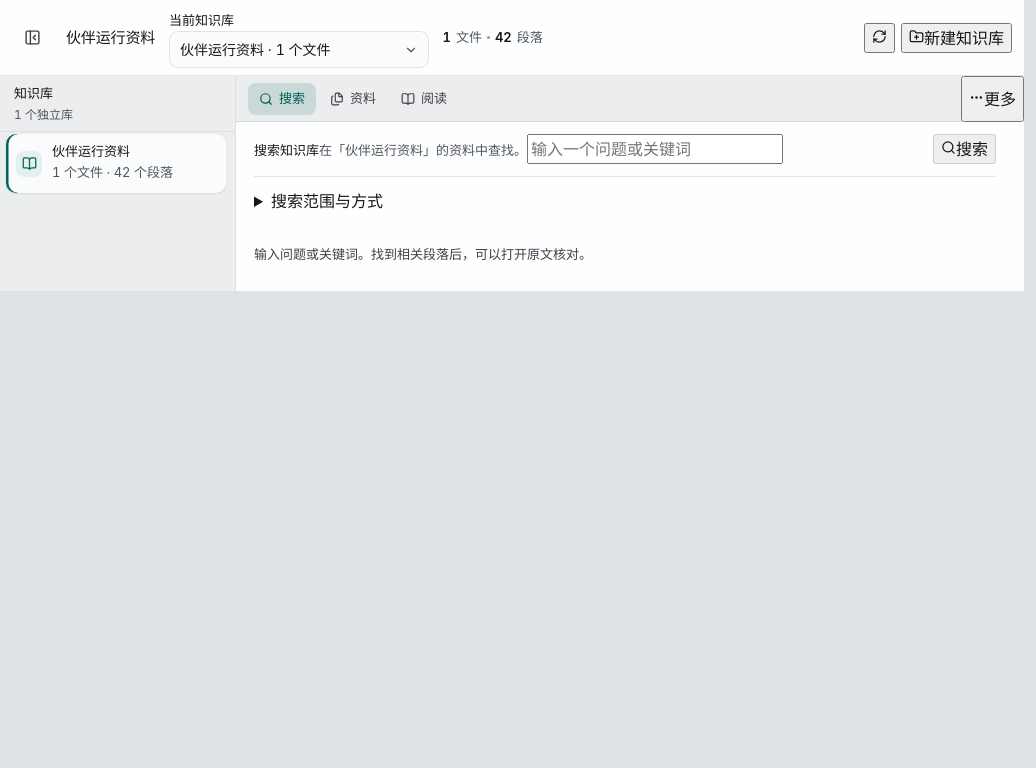
Test case: document knowledge library › opens the exact hit even when the current materials list does not contain its document
The width and height of the screenshot is (1036, 768).
Type "工具注册" into the field labelled "搜索知识库". click: (655, 149)
box: [527,134,783,164]
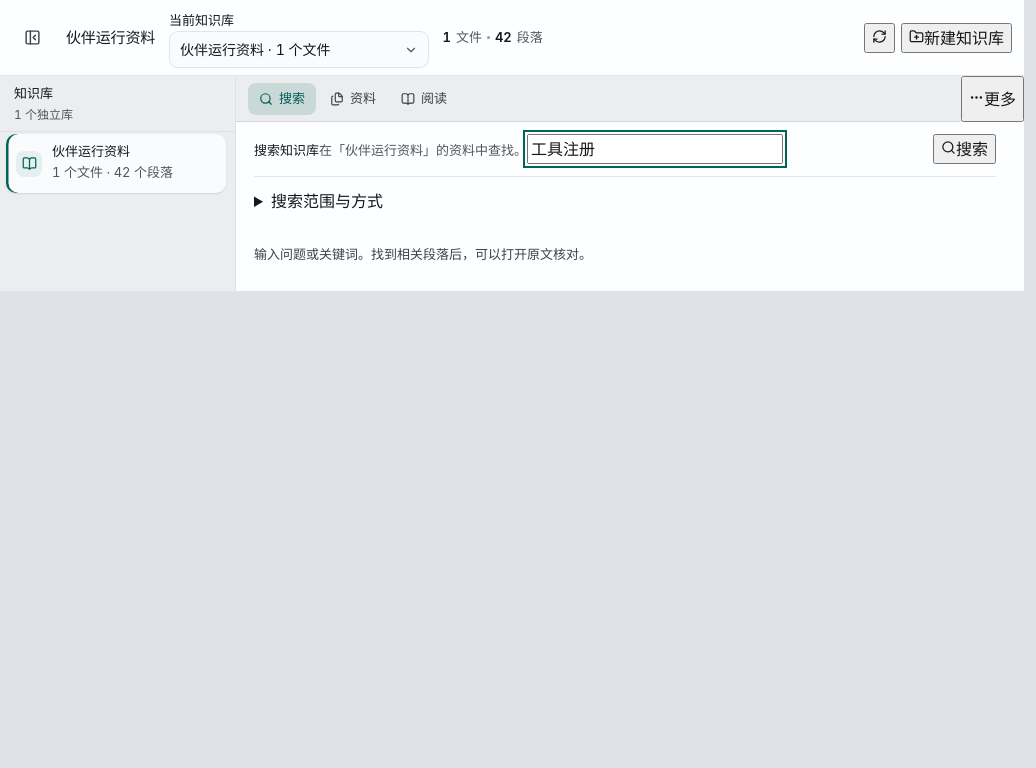
Click the button "搜索". click: (964, 149)
box: [933,134,996,164]
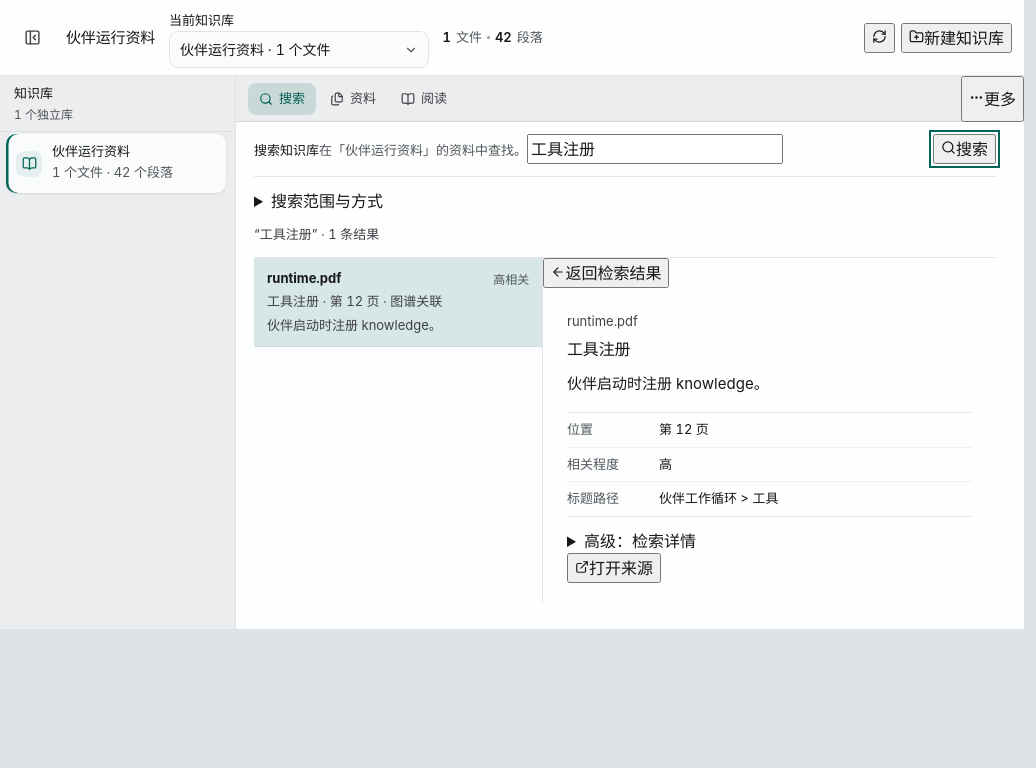
Click the button "打开来源". click: (614, 568)
box: [567,552,661,582]
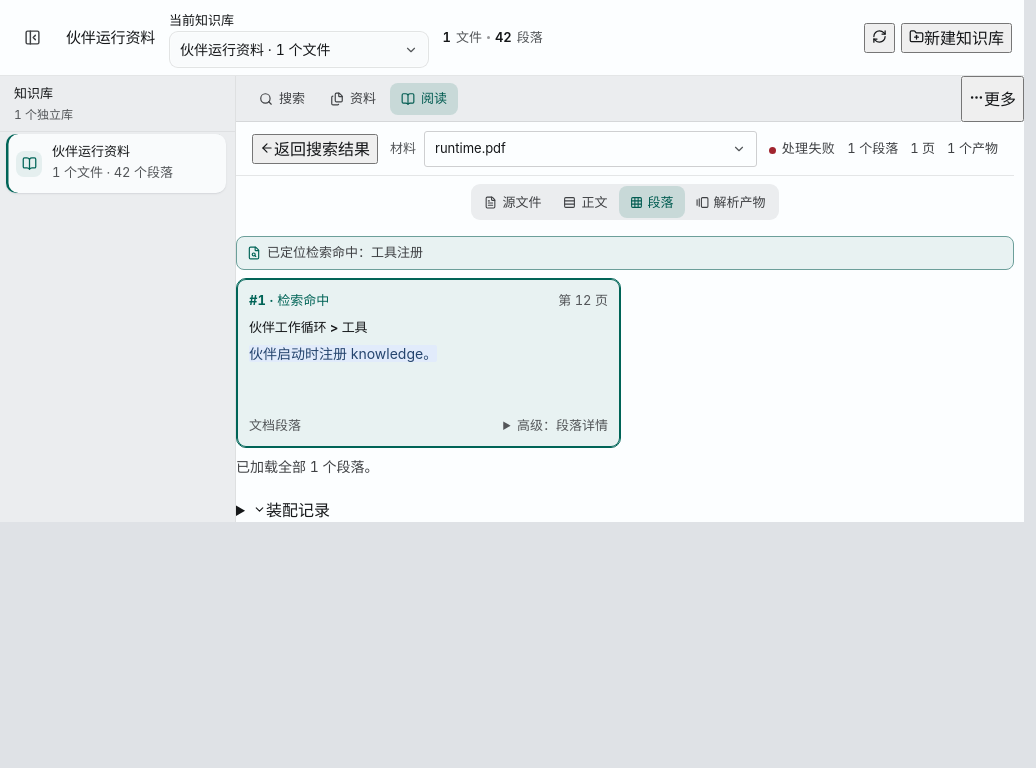
Expected: the dropdown named "材料" reads "runtime.pdf", [424,130,757,166]
Expected: the text "已定位检索命中：工具注册" is shown, [267,243,423,263]
Click the button "返回搜索结果". click: (315, 148)
box: [252,134,378,164]
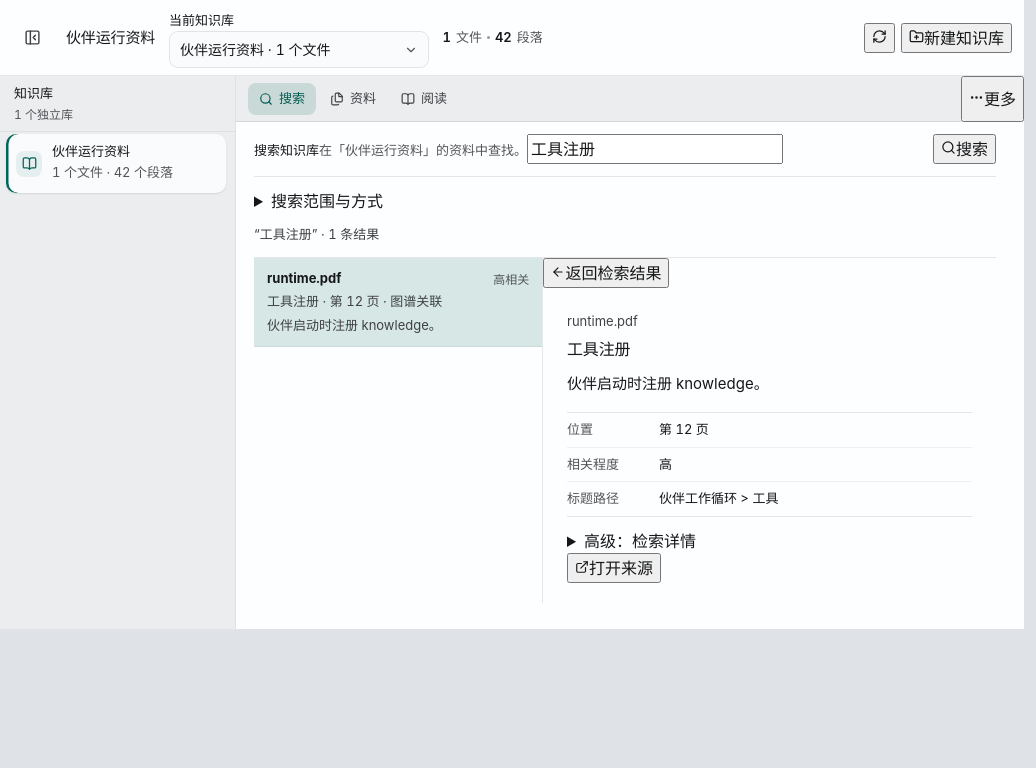
Expected: the field labelled "搜索知识库" holds "工具注册", [527,134,783,164]
